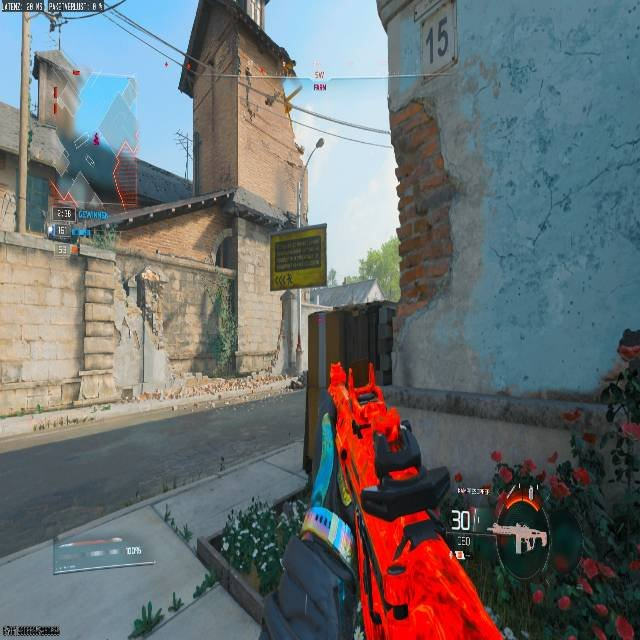head: (617, 328, 640, 361)
player: (602, 324, 639, 450)
